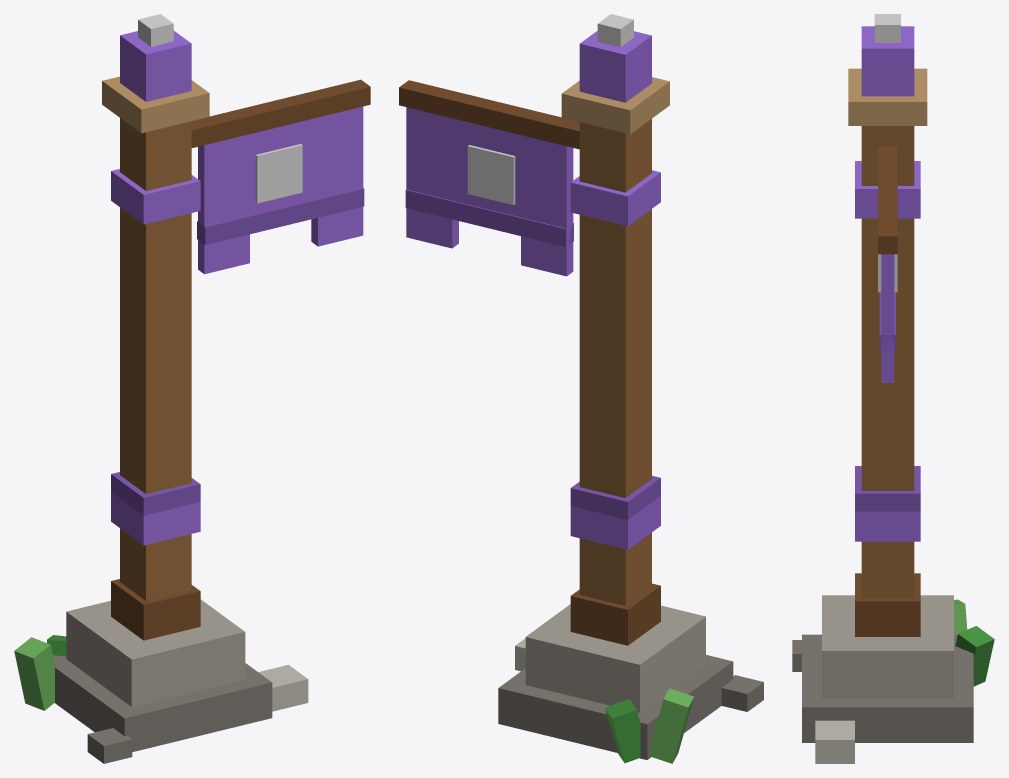
File: territory-marker-moth.glb
3 renders of one model, left to right at view 1: azimuth 30°, elevation 25°; view 2: azimuth 150°, elevation 25°; view 3: azimuth 270°, elevation 25°, orthographic.
Visible parts, largest first — view 1: marker-post, banner; view 2: marker-post, banner; view 3: marker-post, banner.
Boxes of the visible parts, x1,y1,x2,y2 form: marker-post: (14, 14, 308, 763); banner: (191, 79, 370, 274); marker-post: (498, 14, 763, 763); banner: (399, 80, 579, 276); marker-post: (792, 14, 994, 763); banner: (878, 147, 897, 382).
Size of the model in its own units: 0.5581 by 1.15 by 0.3071.
